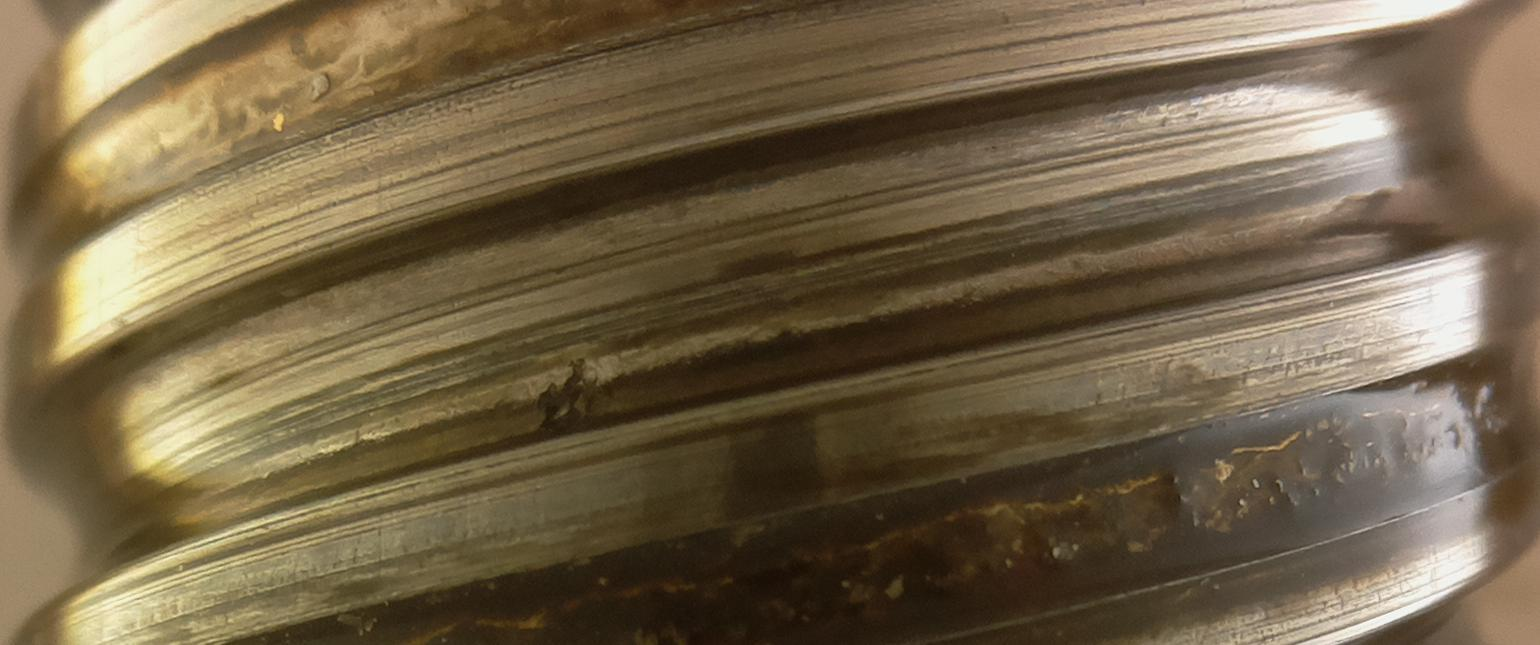pitting: (536, 358, 615, 440)
